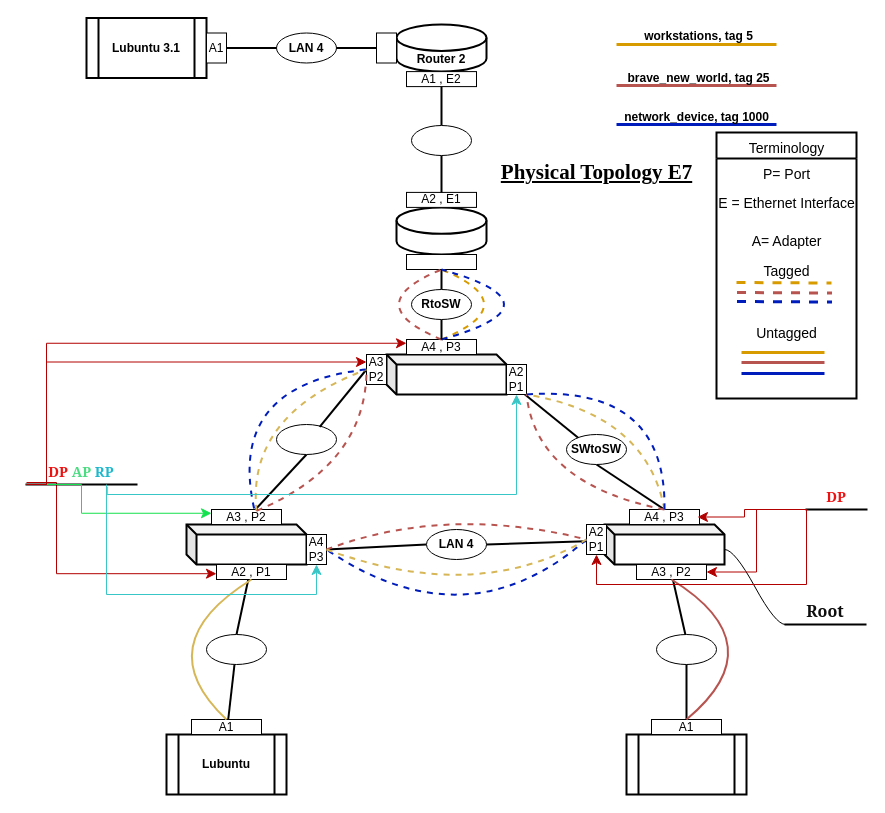
The diagram is 885 pixels wide and 813 high, and some of its shapes have lost their labels. Here are the shapes that lost their labels. From the top down, the centre of each, then its label:
At [386,47]: "A2 E1".
At [441,140]: "RtoR".
At [441,230]: "Vyos".
At [441,262]: "A1 , E0".
At [446,374]: "Network_Switch 2".
At [306,439]: "LAN 1".
At [246,544]: "Switch 1".
At [664,544]: "Switch 3".
At [236,649]: "LAN 3".
At [686,649]: "LtoSW".
At [686,764]: "Lubuntu 2000".
